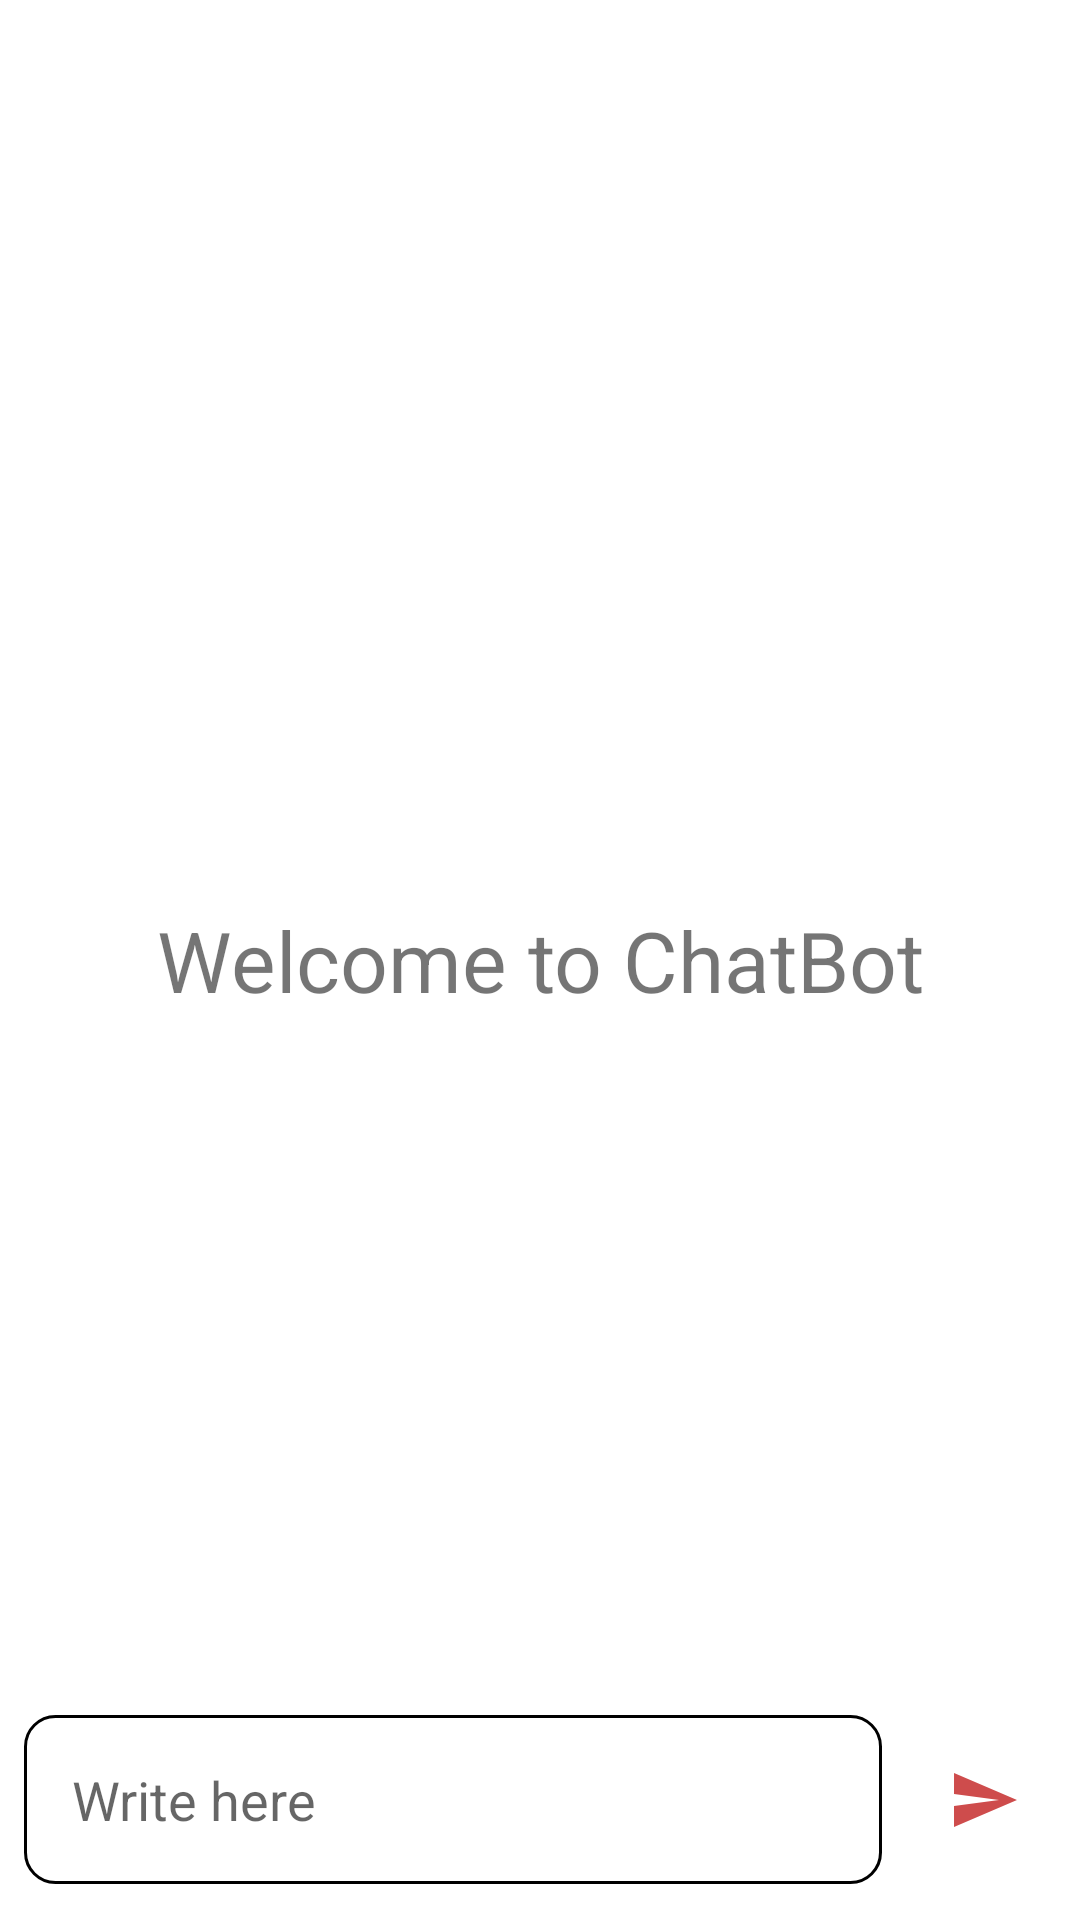

Locate icon controls on the screen. Image size 1080 x 1920, boxes as (x1=x1, y1=y1, x2=x2, y2=y2).
send: (x1=954, y1=1773, x2=1017, y2=1827)
